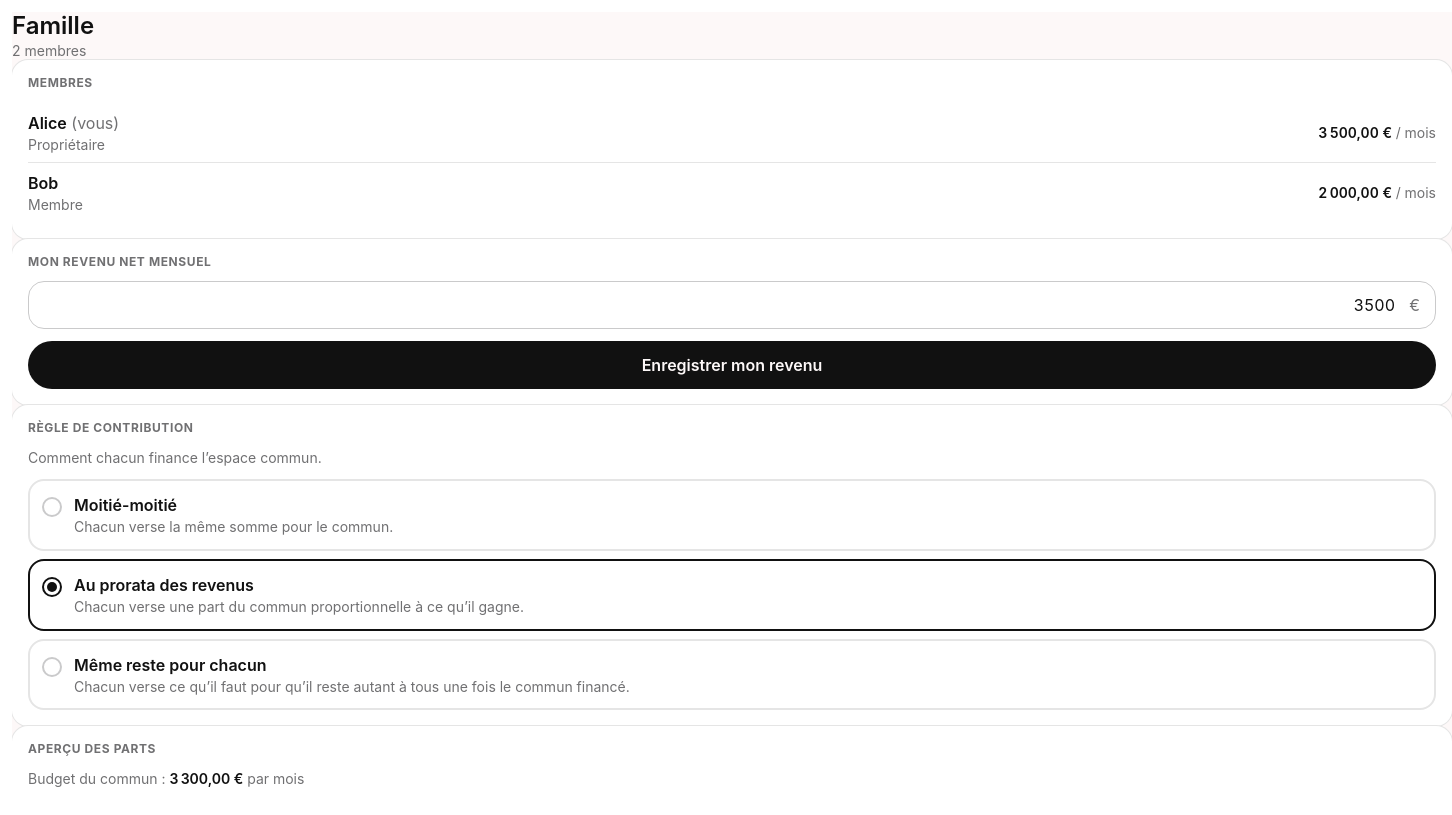
Test: FoyerPage › rejects an invalid income
Replace the text in the field named "Revenu net mensuel" with "beaucoup": (732, 305) [28,281,1436,329]
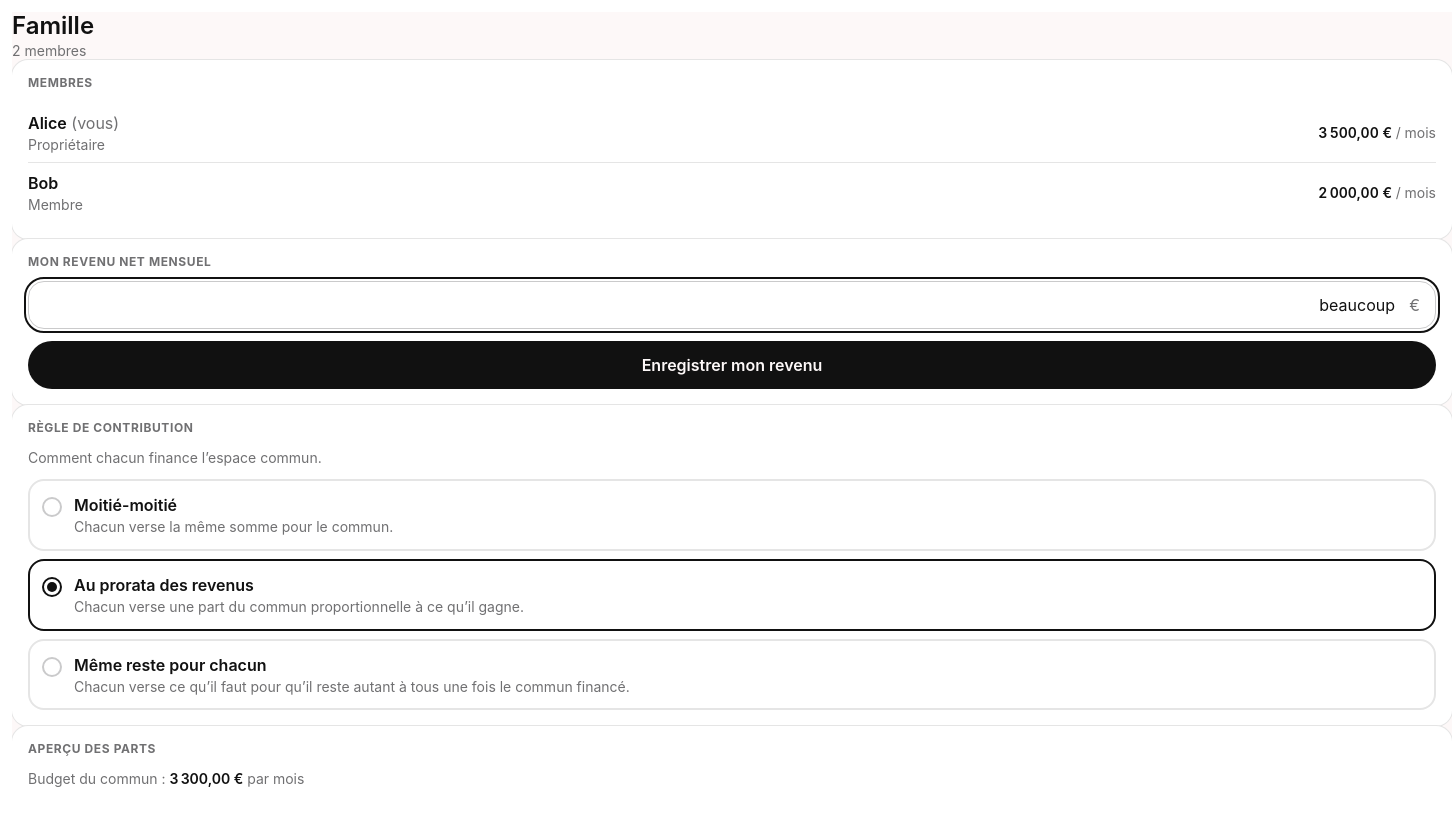
Click the button "Enregistrer mon revenu": (732, 365) [28,341,1436,389]
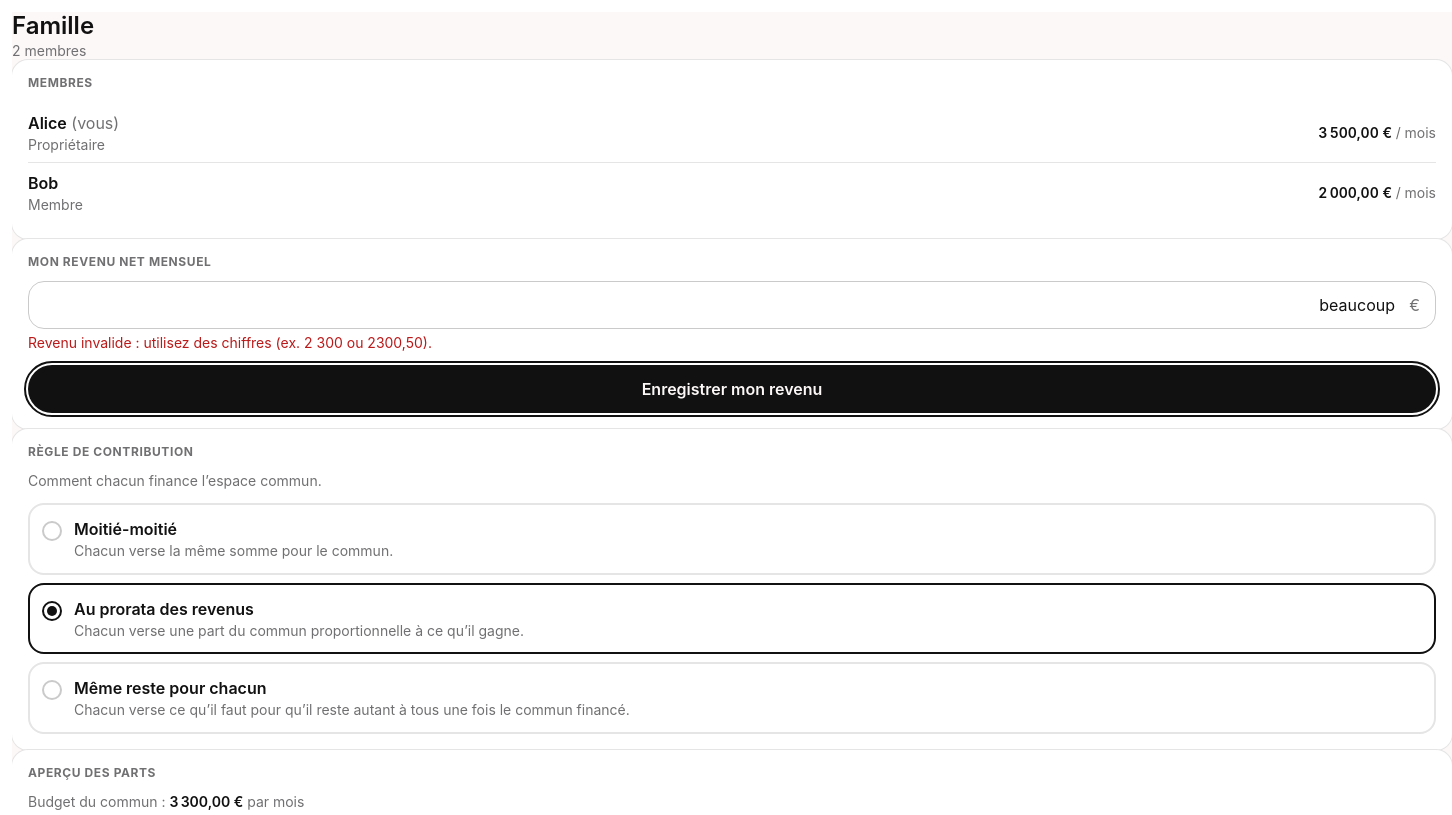
expect the text "Revenu invalide : utilisez des chiffres (ex. 2 300 ou 2300,50)." is shown: met, box [28,334,432,351]
